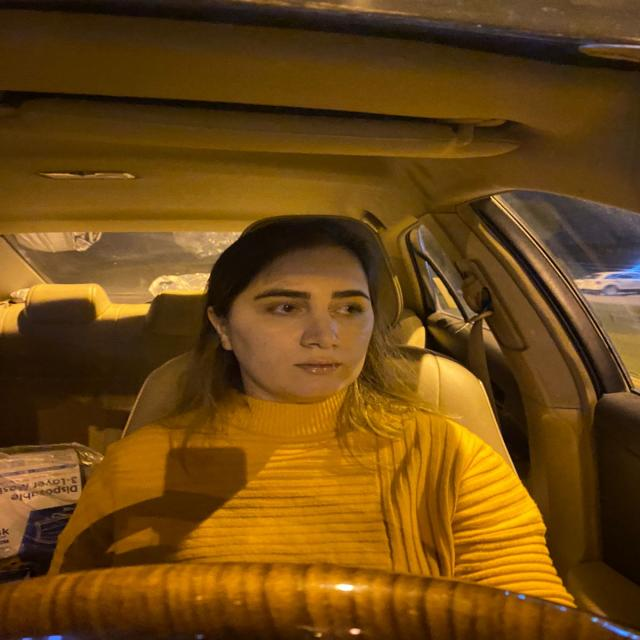person: (199, 211, 388, 408)
